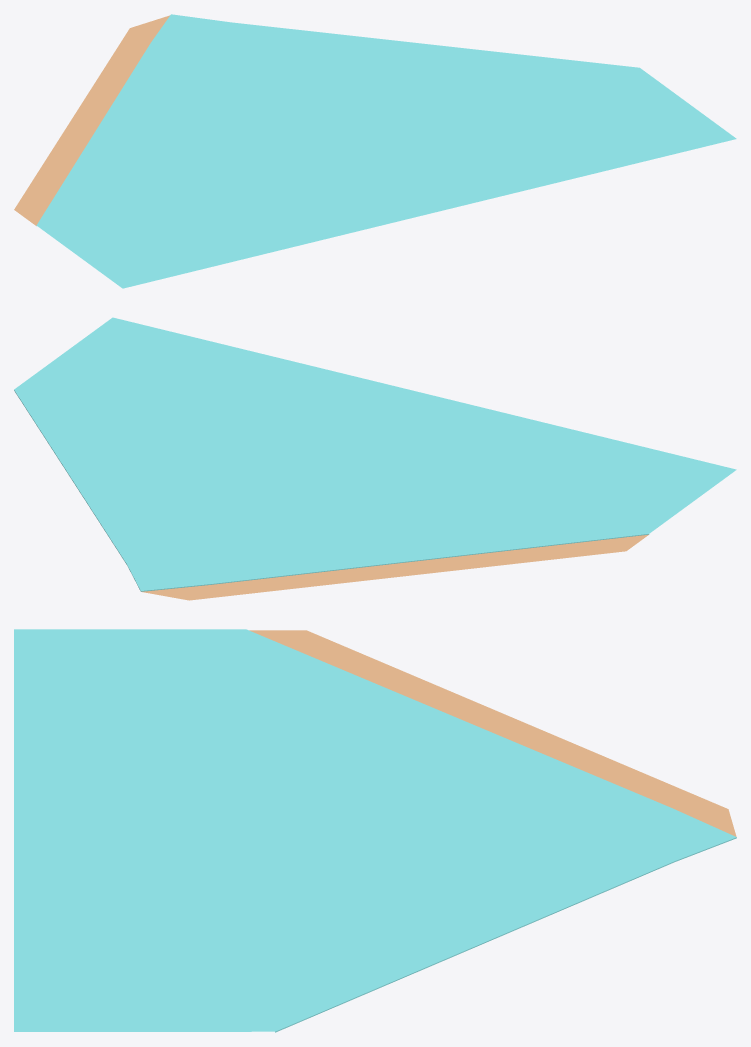
File: sol4.FBX
3 views of the same model, one above another, from view 1: azimuth 30°, elevation 25°; view 2: azimuth 150°, elevation 25°; view 3: azimuth 270°, elevation 25° (orthographic). The views are drawn at different scales.
Parts seen in each view (by area): view 1: Object001; view 2: Object001; view 3: Object001.
Part boxes in pixels (x1,y1,x2,y2): Object001: (14, 14, 736, 288); Object001: (14, 317, 736, 600); Object001: (14, 629, 736, 1032).
Size of the model in its own units: 403 by 0.4686 by 306.
